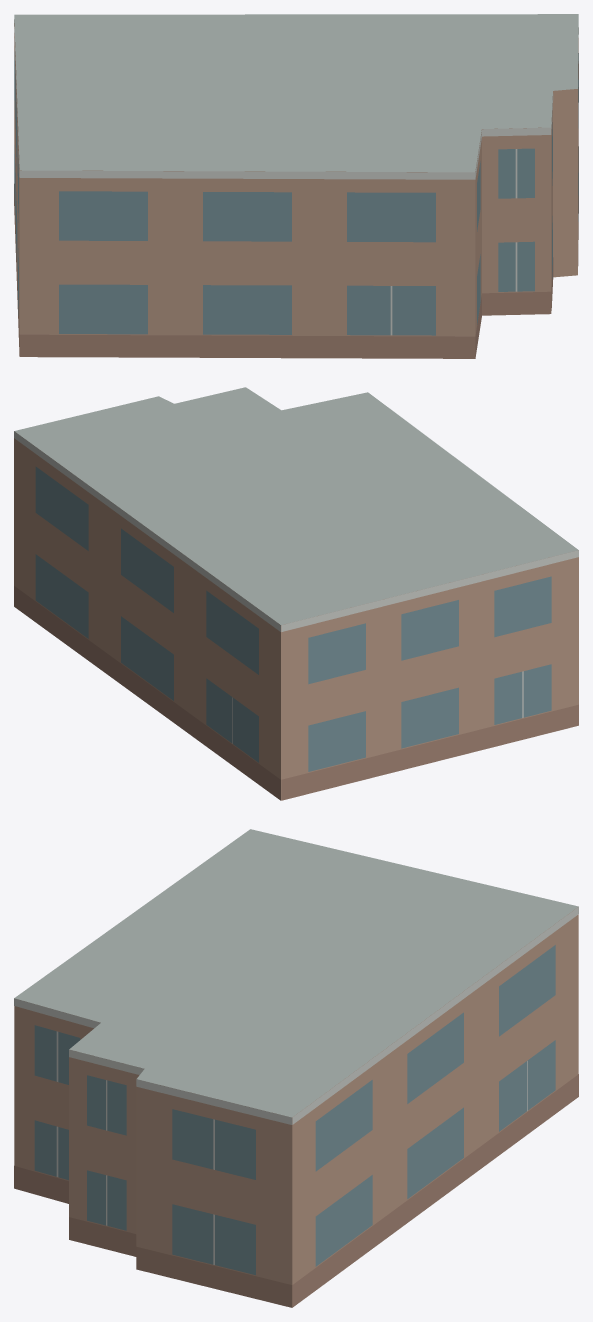
Rendered from survey-upis-32677790.glb.
3 renders of one model, top to bottom at view 1: azimuth 30°, elevation 25°; view 2: azimuth 150°, elevation 25°; view 3: azimuth 270°, elevation 25°, orthographic. The views are drawn at different scales.
Visible parts, largest first — view 1: survey-upis-32677790.tmp; view 2: survey-upis-32677790.tmp; view 3: survey-upis-32677790.tmp.
Part boxes in pixels (<box>): survey-upis-32677790.tmp: <box>14,14,578,358</box>; survey-upis-32677790.tmp: <box>14,387,578,800</box>; survey-upis-32677790.tmp: <box>14,829,578,1307</box>.
Size of the model in its own units: 19.85 by 6.1 by 16.42.
